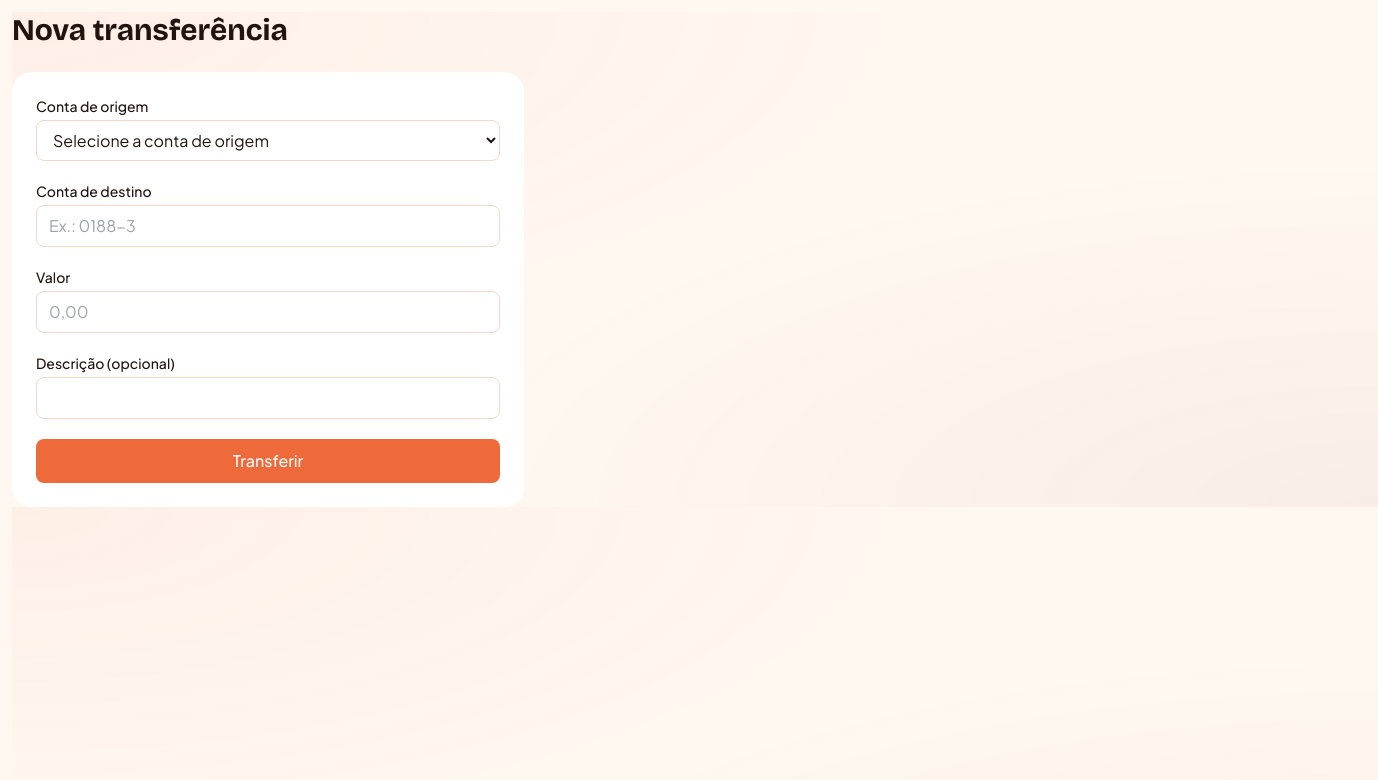
Test: TransferenciaForm › exibe erro de saldo insuficiente
Select "Agência 0001 · Conta 0042-0 · R$ 6.250,00" in the dropdown labelled "Conta de origem" at (268, 140), box [36,120,500,161]
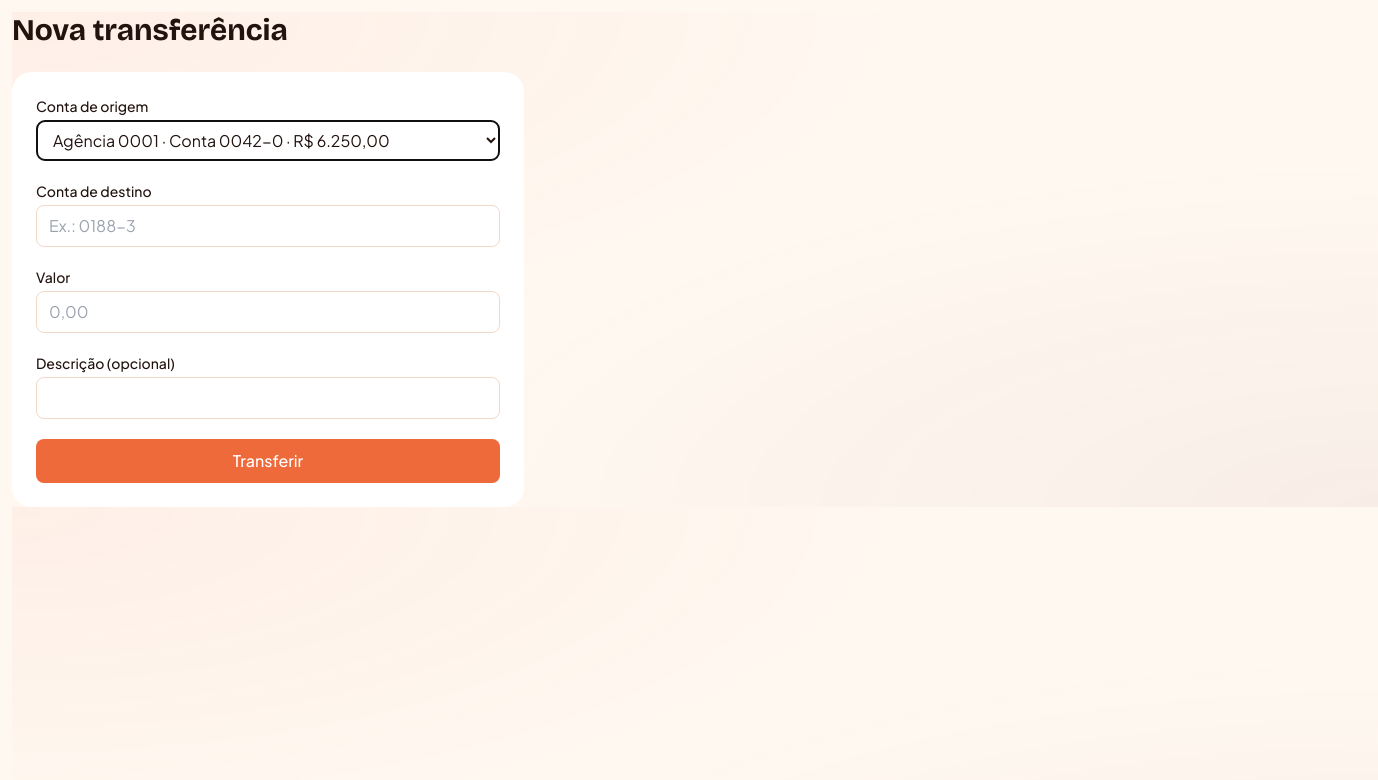
Type "0188-3" into the field labelled "Conta de destino" at (268, 226), box [36,205,500,247]
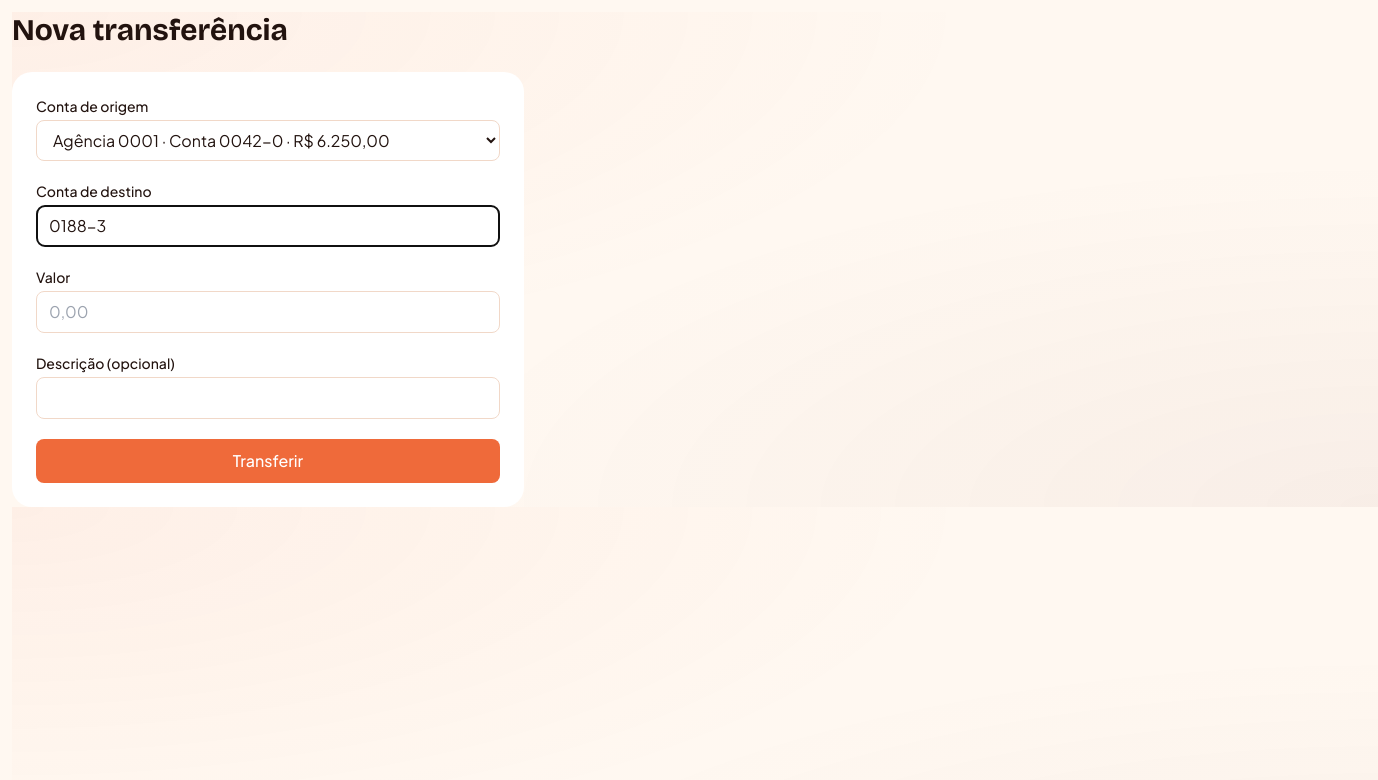
Type "99999" into the field labelled "Valor" at (268, 312), box [36,291,500,333]
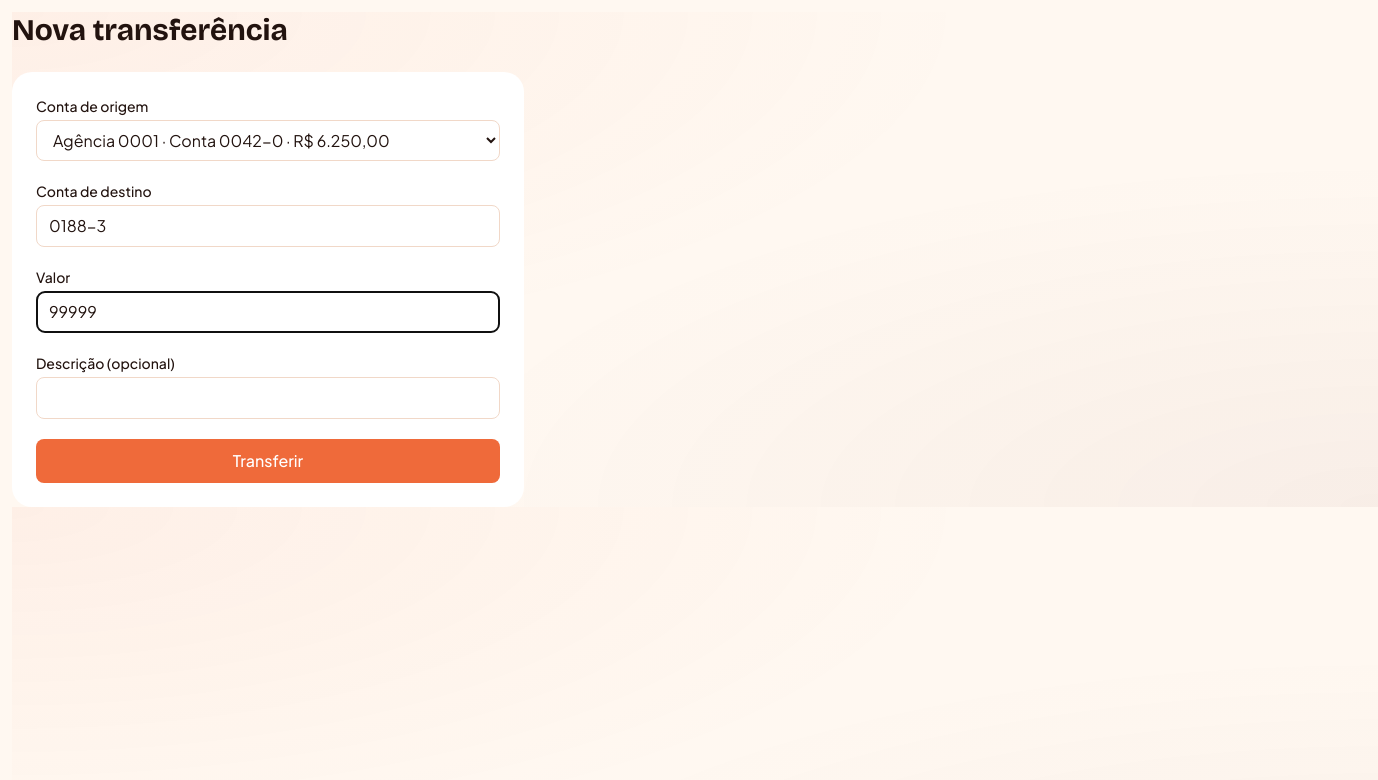
Click the button "Transferir" at (268, 461), box [36,439,500,483]
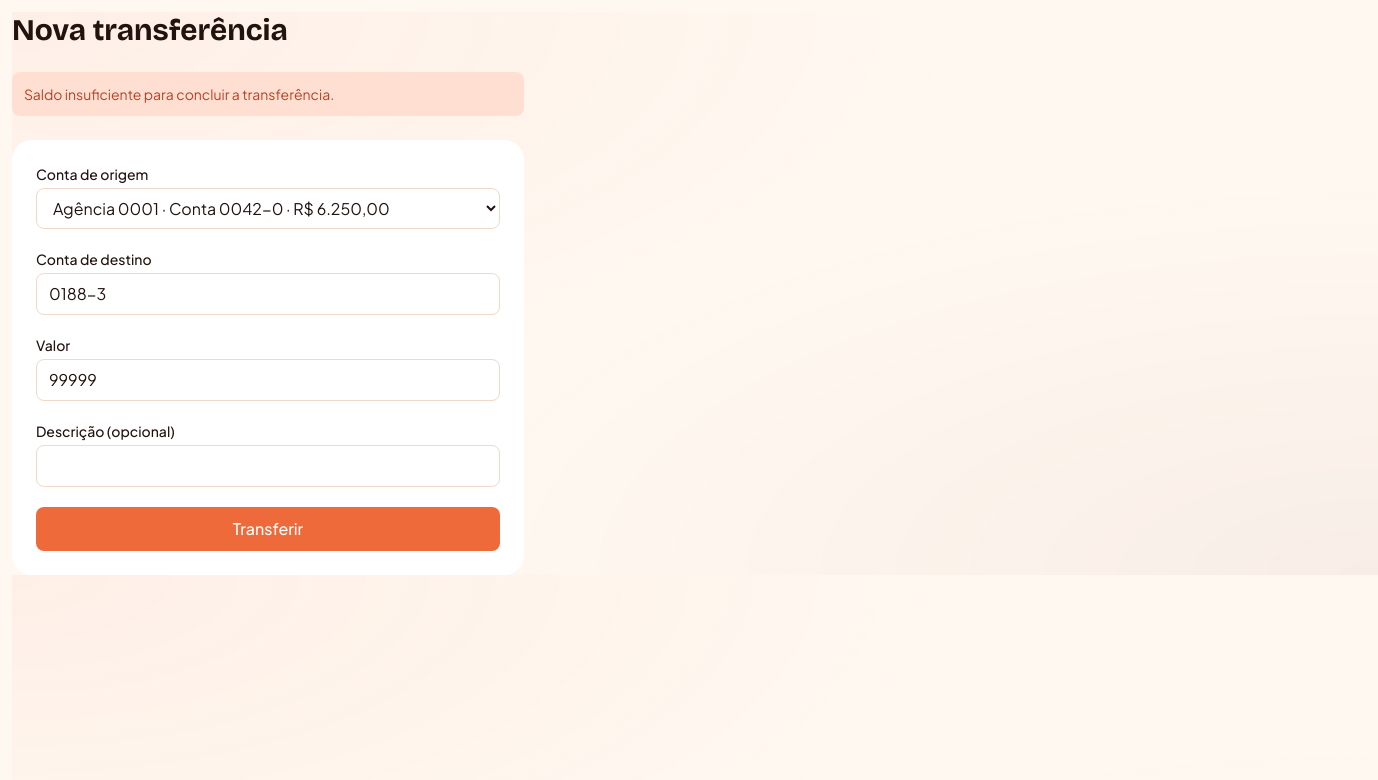
Expected: the text "Saldo insuficiente para concluir a transferência." is shown, [12,72,524,116]
